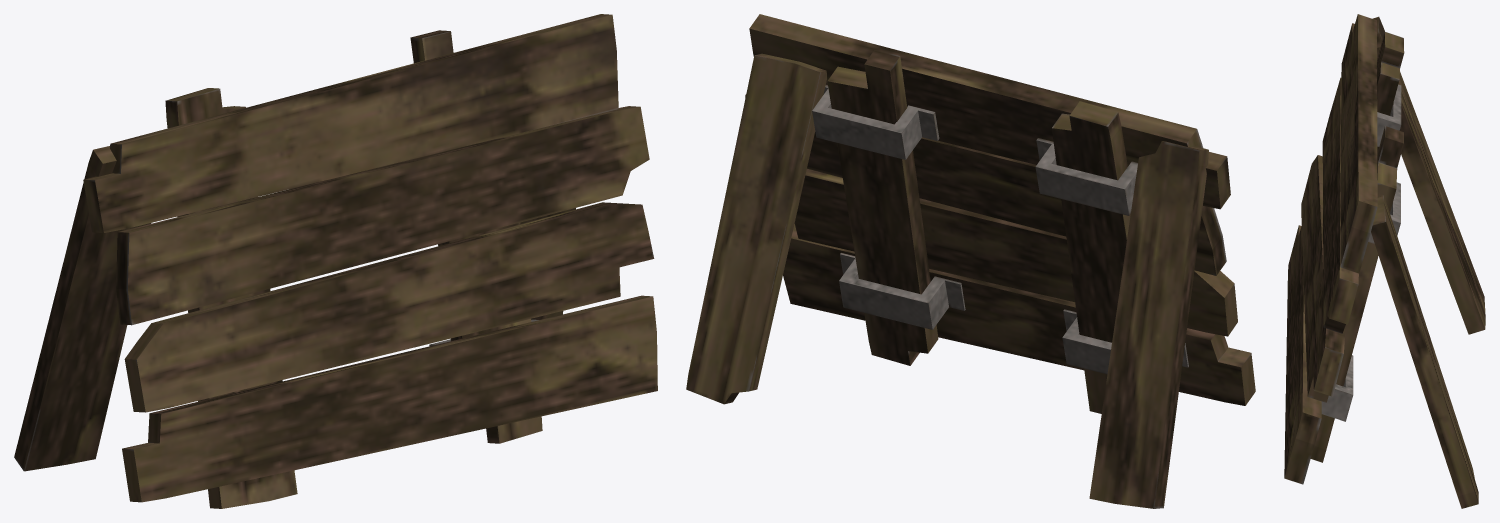
Rendered from WoodWall.fbx.
3 renders of one model, left to right at view 1: azimuth 30°, elevation 25°; view 2: azimuth 150°, elevation 25°; view 3: azimuth 270°, elevation 25°, orthographic. The views are drawn at different scales.
Visible parts, largest first — view 1: WoodWall; view 2: WoodWall; view 3: WoodWall.
Part boxes in pixels (x1=…): WoodWall: x1=14, y1=14, x2=657, y2=508; WoodWall: x1=686, y1=14, x2=1255, y2=508; WoodWall: x1=1284, y1=14, x2=1485, y2=508.
Bounding box in the file's own units: 4.15 × 2.88 × 1.65.
Materials: 1 (1 with a texture image).
